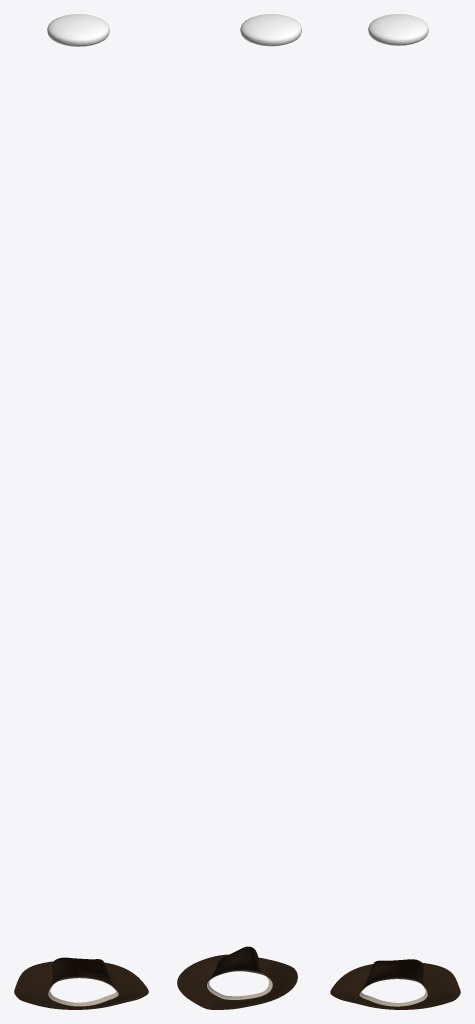
File: Cowboyhat.glb
3 views of the same model, side by side, from view 1: azimuth 90°, elevation 25°; view 2: azimuth 150°, elevation 25°; view 3: azimuth 270°, elevation 25° (orthographic). The views are drawn at different scales.
Parts seen in each view (by area): view 1: CowboyHat, Button; view 2: CowboyHat, Button; view 3: CowboyHat, Button.
Part boxes in pixels (x1,y1,x2,y2): CowboyHat: (14, 957, 148, 1009); Button: (47, 14, 109, 46); CowboyHat: (177, 946, 297, 1009); Button: (240, 14, 301, 46); CowboyHat: (330, 959, 460, 1009); Button: (368, 14, 428, 45).
Size of the model in its own units: 0.5051 by 4.3 by 0.5317.
